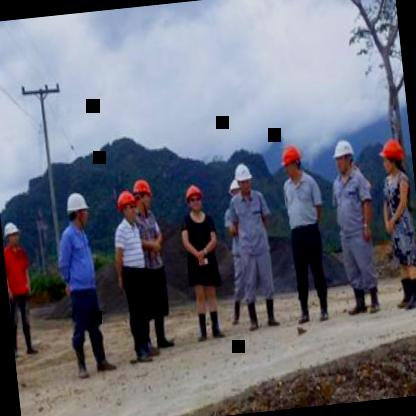helmet: (63, 186, 92, 232), (378, 137, 406, 181), (328, 133, 356, 176), (278, 140, 306, 183), (0, 216, 24, 254), (130, 175, 154, 212), (115, 186, 140, 221), (233, 160, 256, 196), (182, 181, 206, 215), (228, 177, 242, 203)
